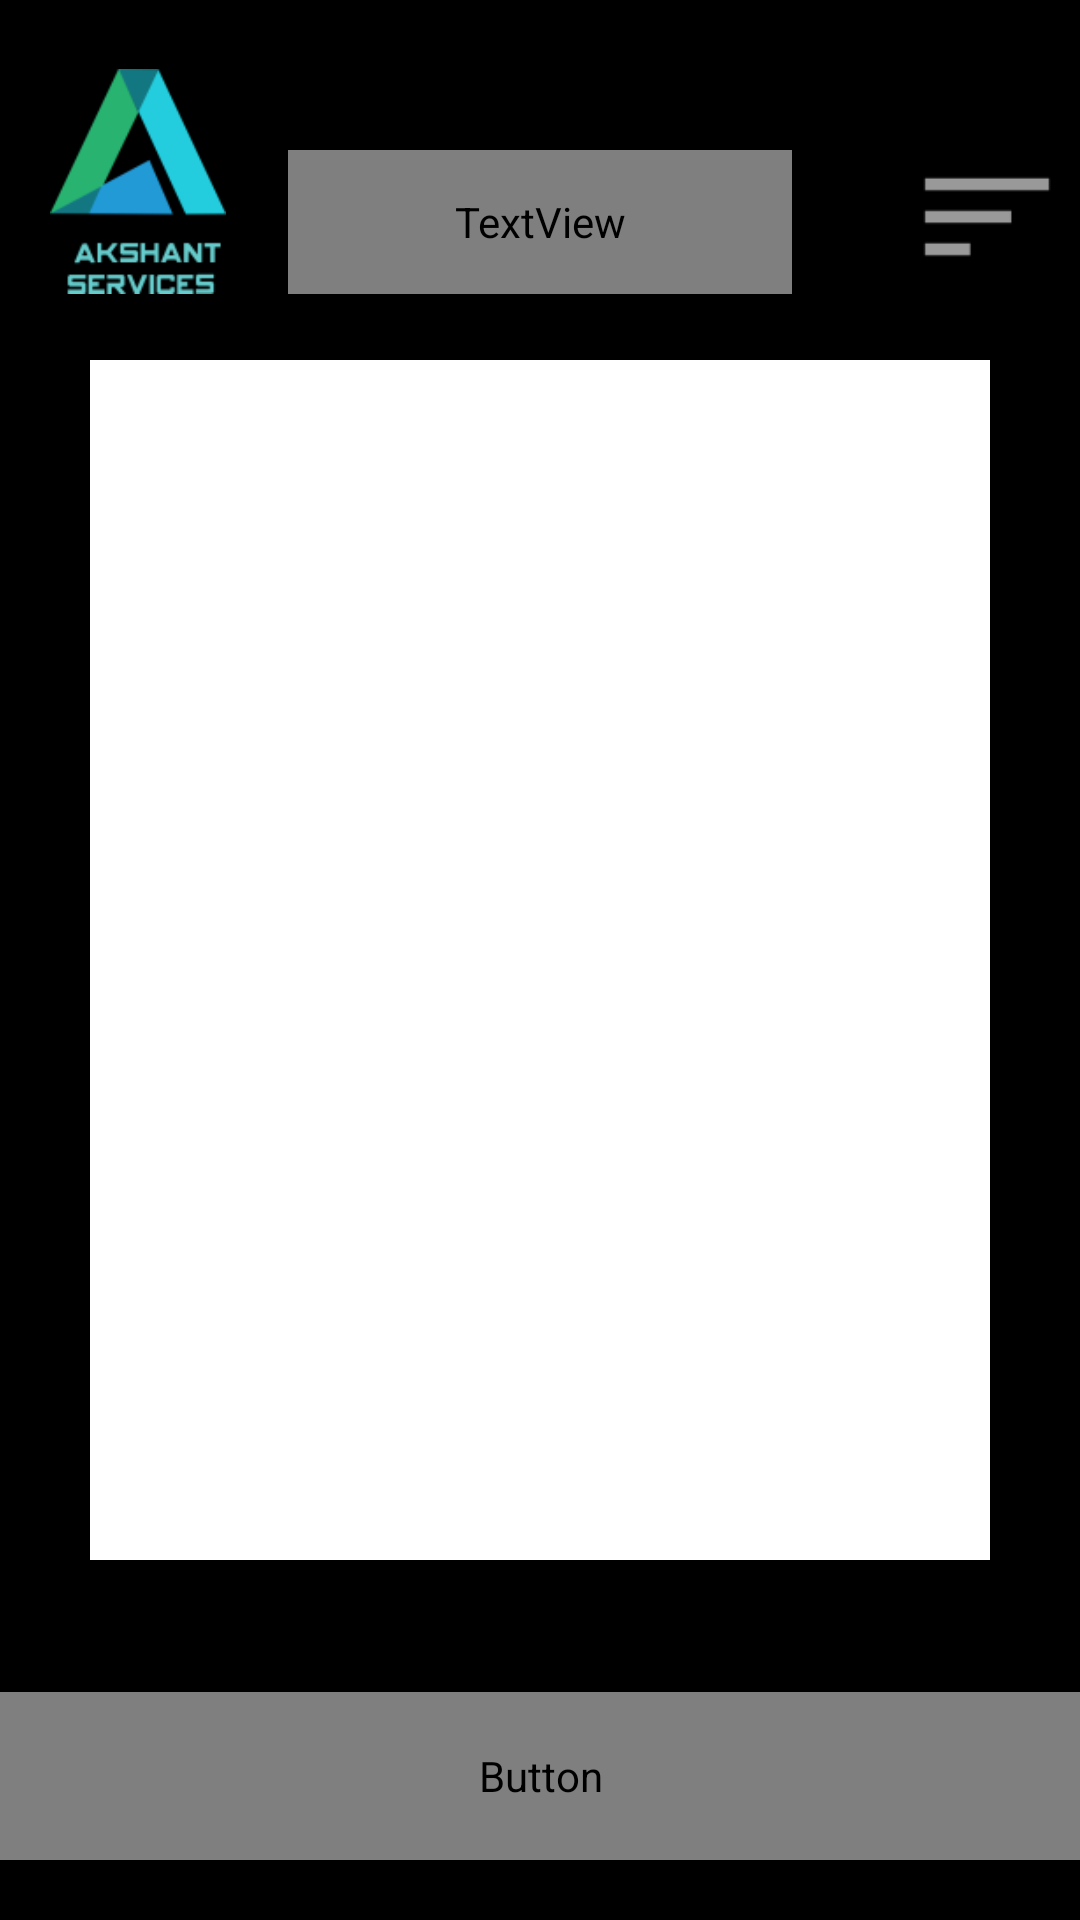

Icon bounding boxes for this 1080 x 1920 phone screenshot, format (x1, y1, x2, y2):
sort by size: (924, 177, 1050, 256)
